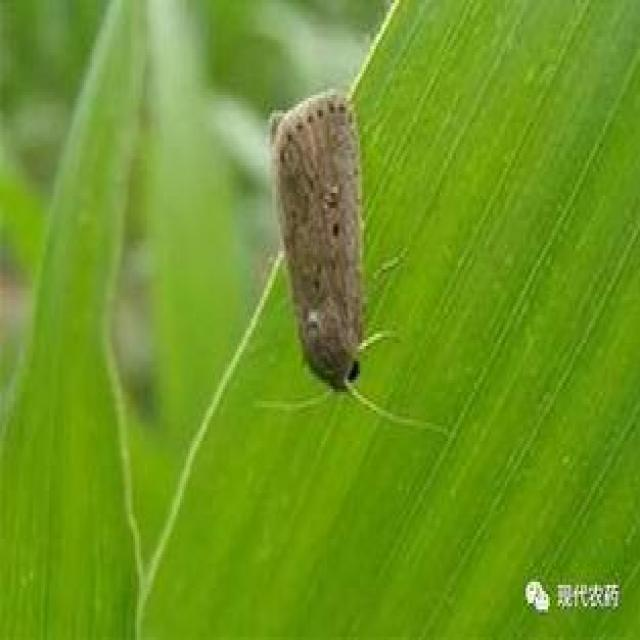BeetArmyWorm-Adult-: (260, 78, 402, 421)
